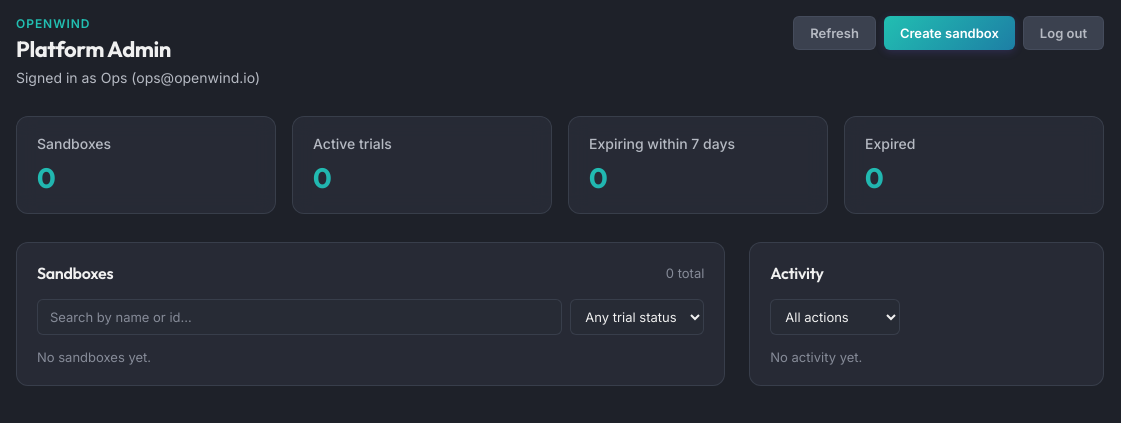
Test: PlatformAdminDashboard › shows an inline error when logout fails
Expected: the text "Signed in as Ops (ops@openwind.io)" is shown, [16,67,260,88]
Click the button "Log out" at (1063, 33), box [1023,16,1104,50]
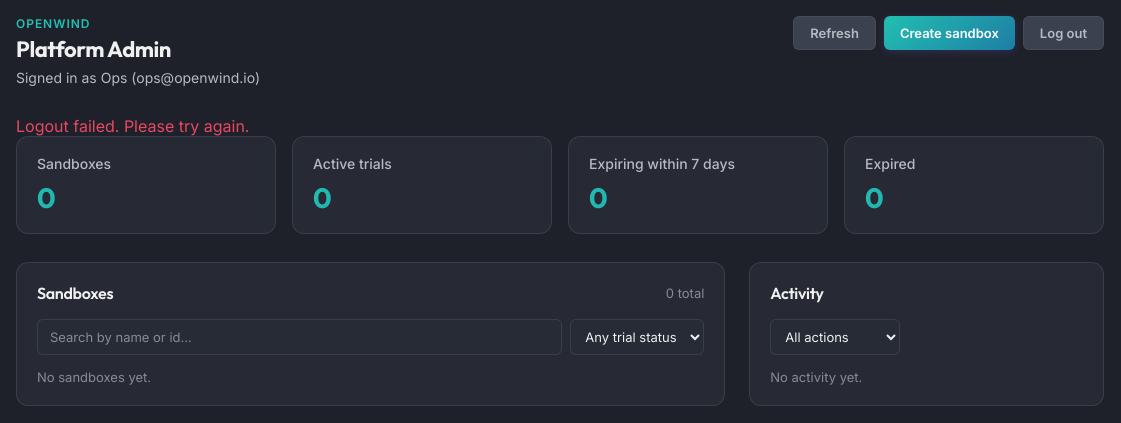
Expected: the message reads "Logout failed. Please try again.", [16,116,249,136]
